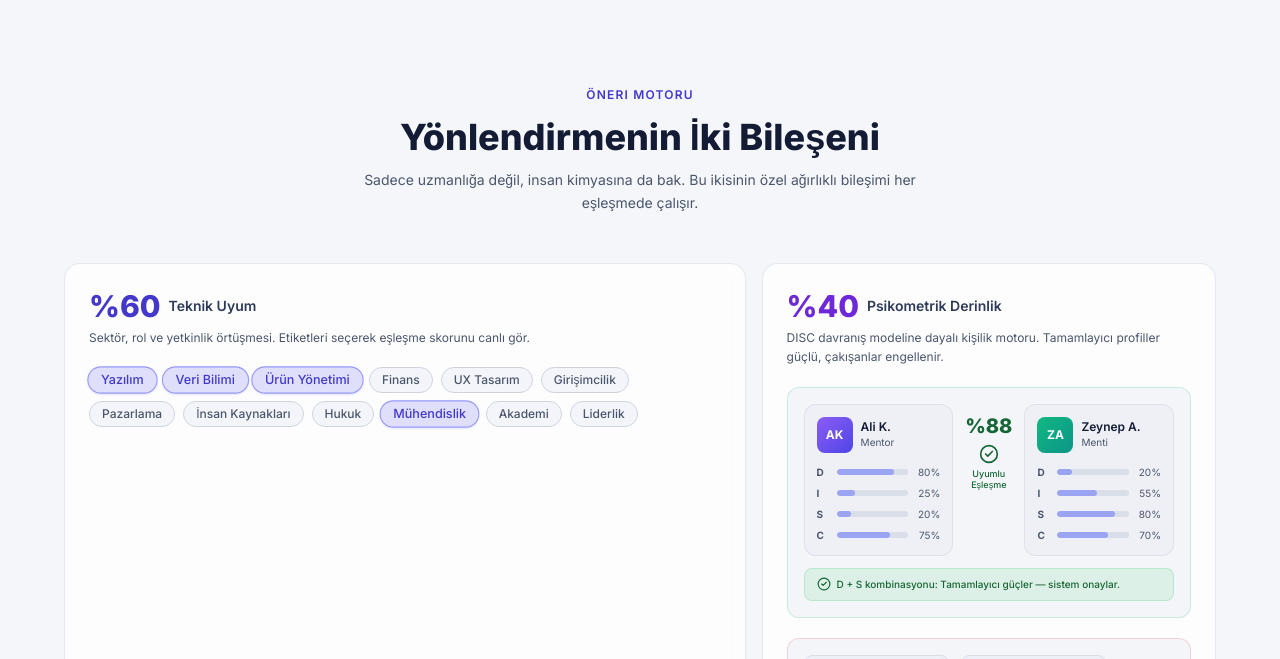
it: AlgorithmBento — canlı skor › seçili etiketlerin hepsi kaldırılınca %0 gösterir
Click the button "Yazılım": [122, 380] box [87, 366, 157, 394]
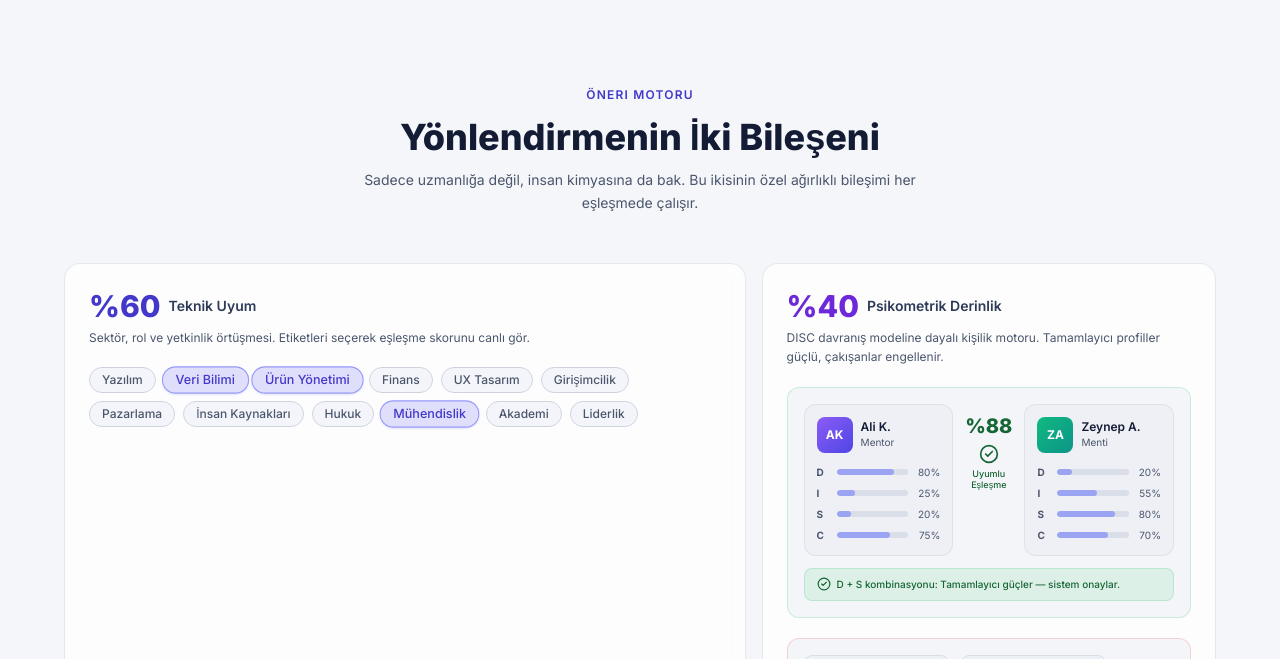
Click the button "Veri Bilimi": [205, 380] box [162, 366, 248, 394]
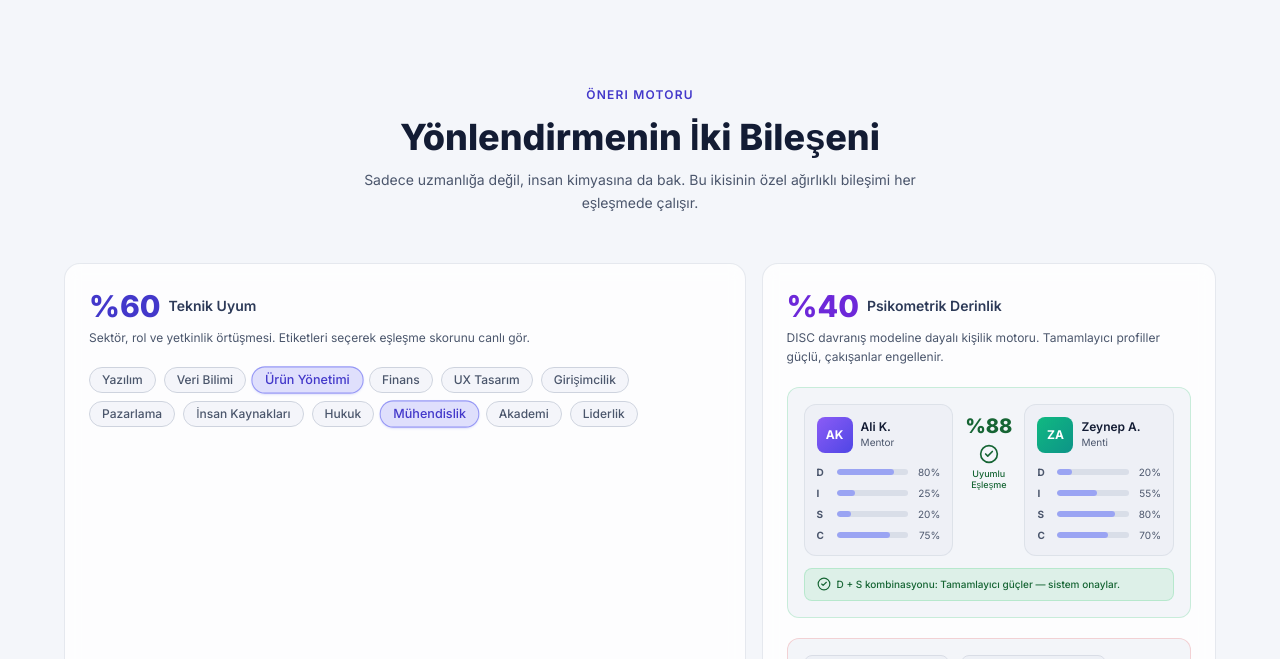
Click the button "Ürün Yönetimi": [308, 380] box [252, 366, 364, 394]
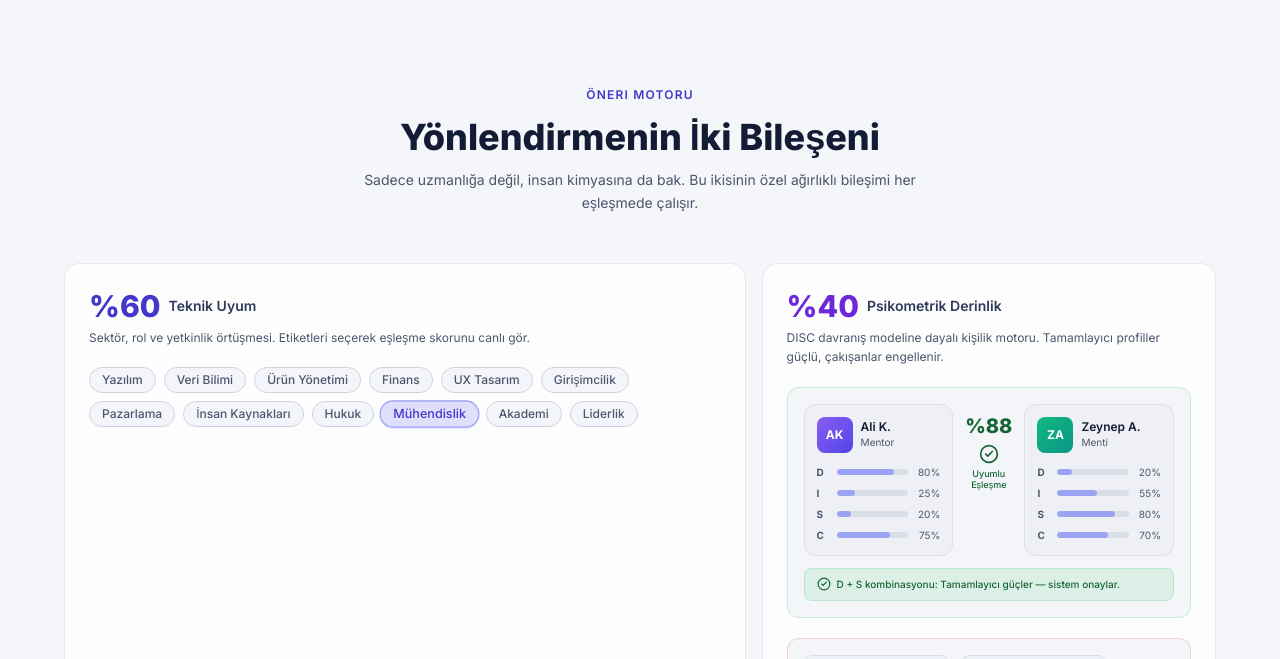
Click the button "Mühendislik": [430, 414] box [380, 400, 480, 428]
(page scrolled)
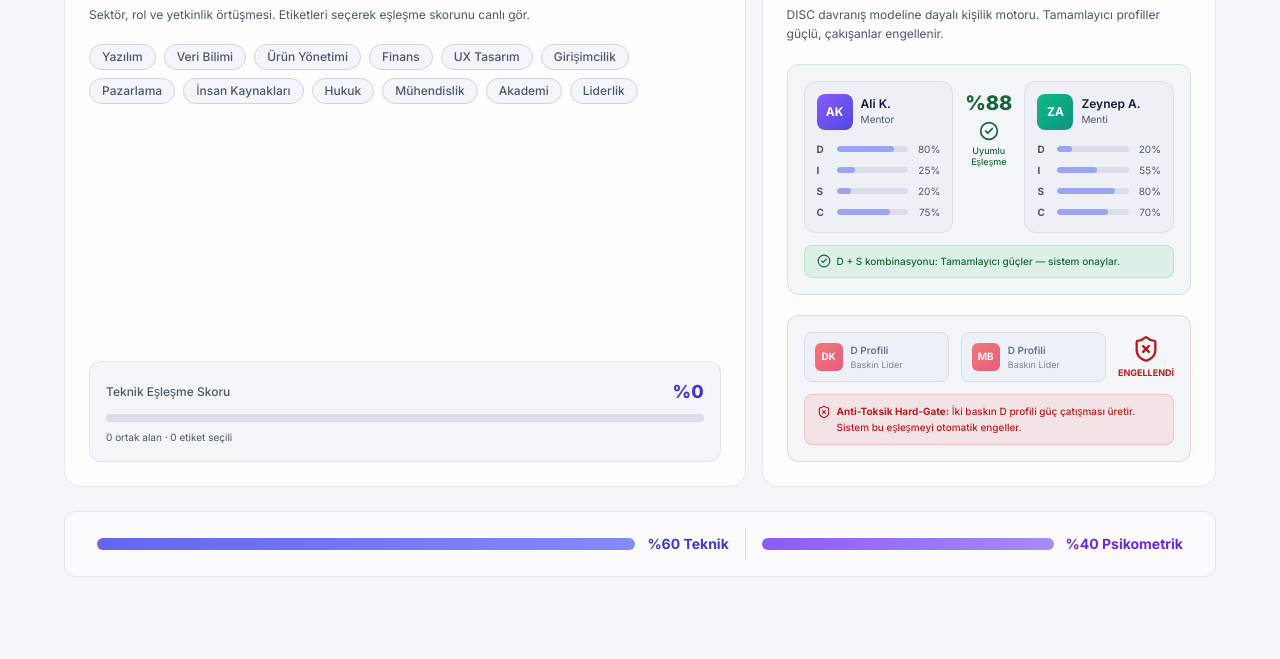
Expected: the text "%0" is shown, [673, 378, 704, 406]
